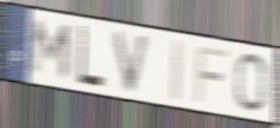F: (193, 43, 230, 105)
I: (168, 37, 185, 105)
L: (77, 22, 105, 90)
M: (28, 17, 75, 81)
O: (234, 52, 269, 115)
V: (112, 28, 154, 96)
